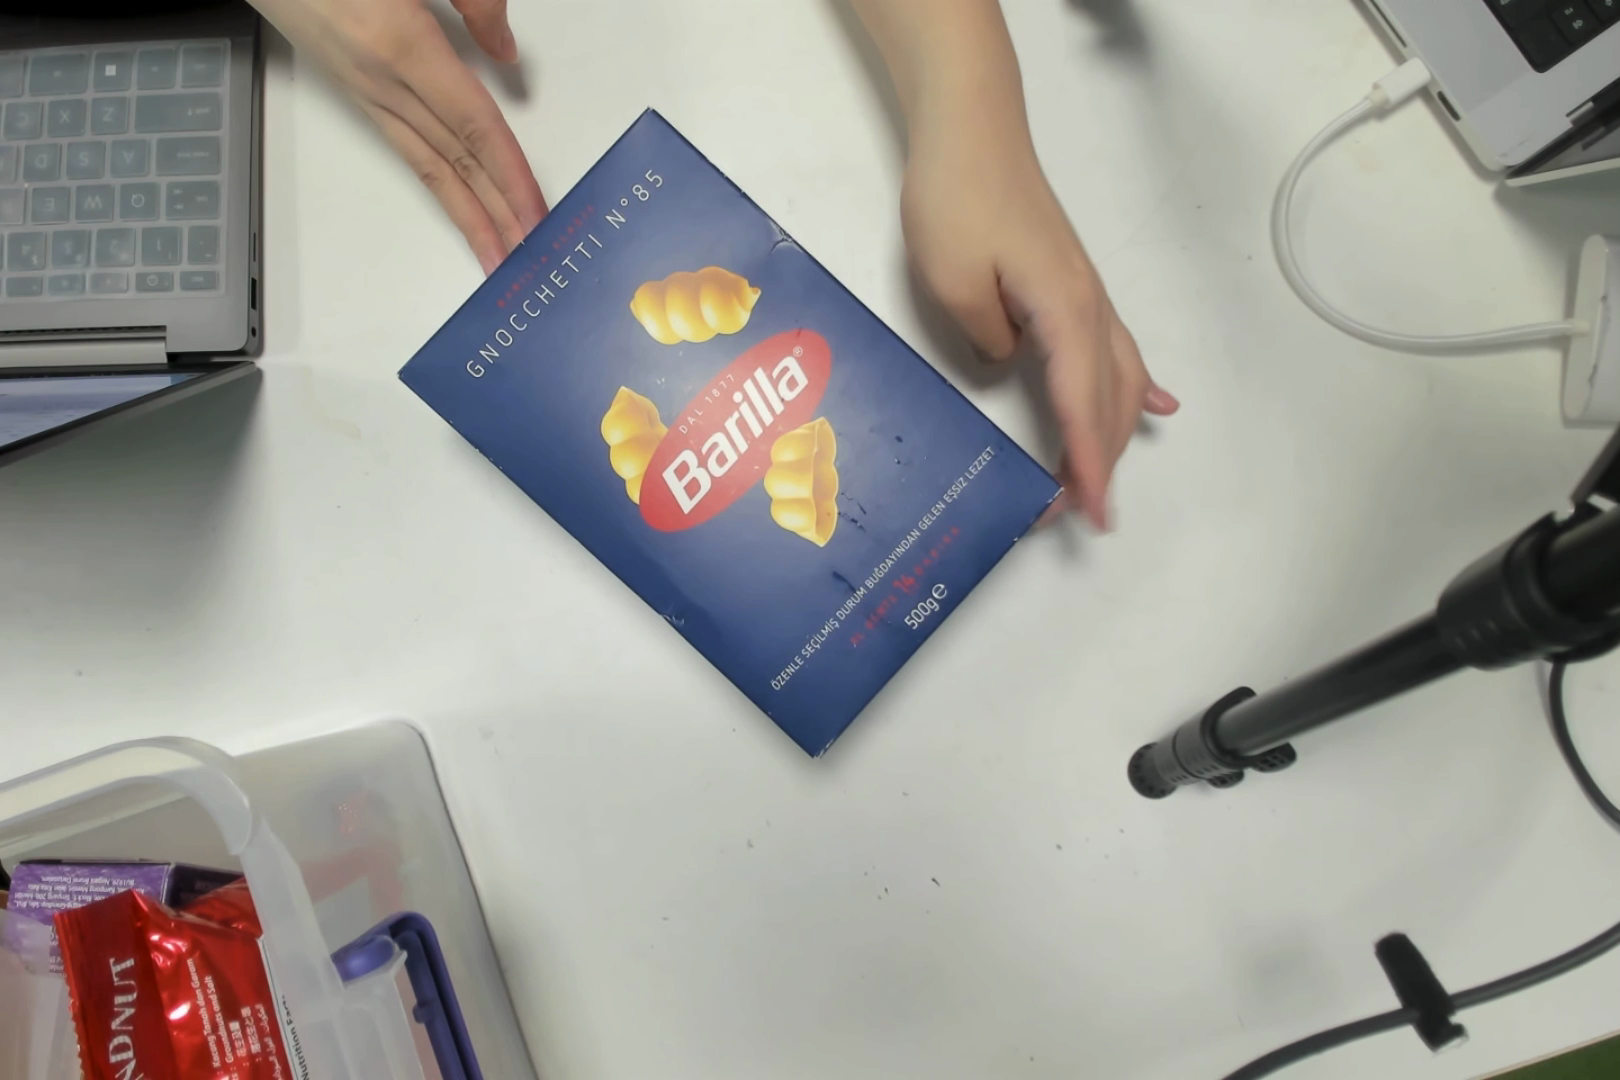Pasta_500-599g_NonHalal_NonHealthy: (483, 158, 1033, 735)
